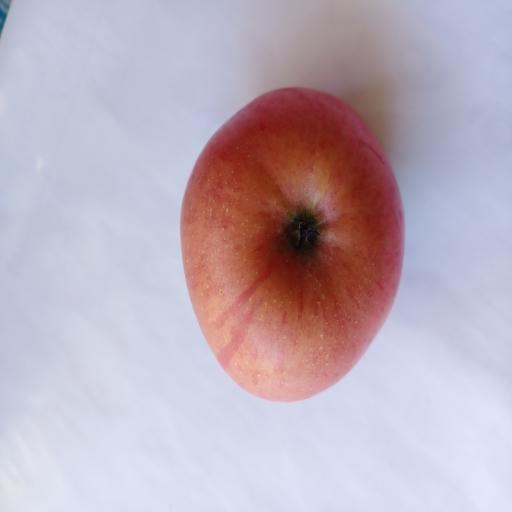apple-ripe: (170, 73, 410, 421)
